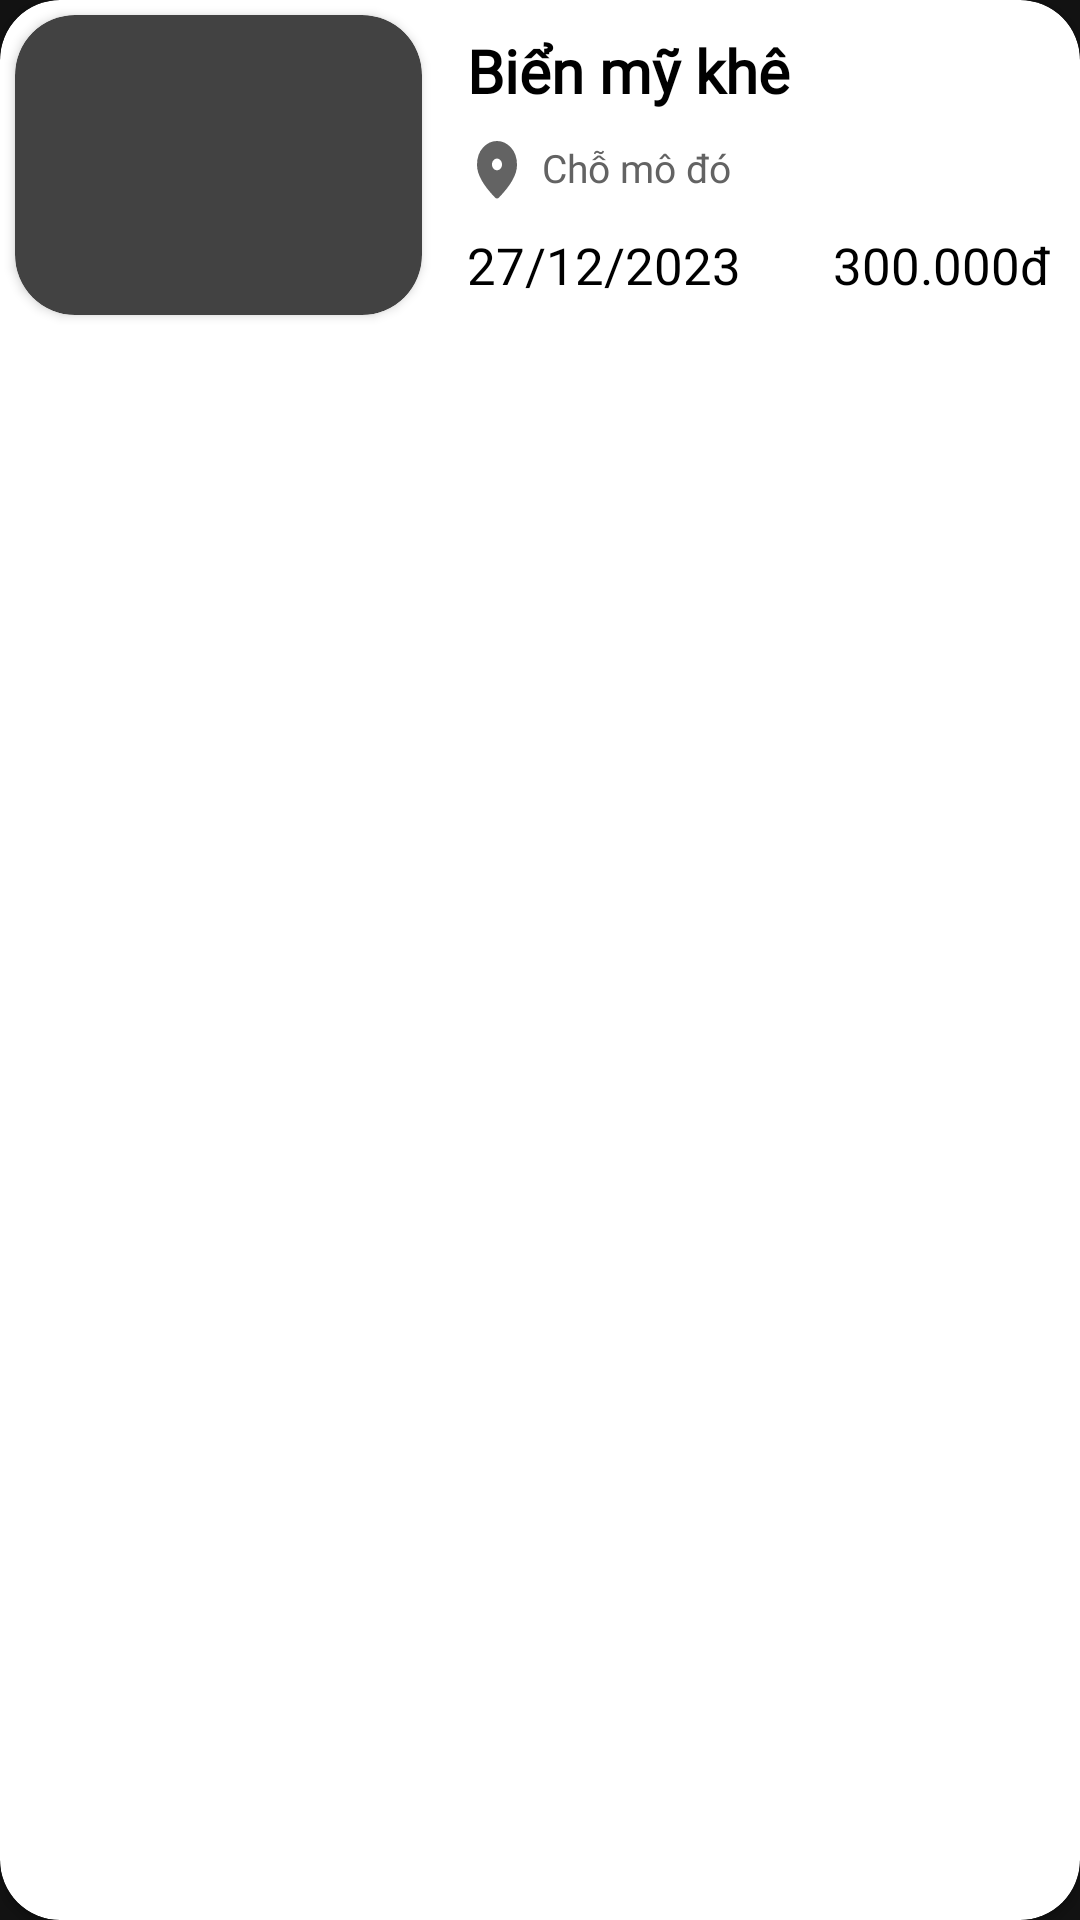

Icons on this 1080 x 1920 Android screen, each with the point to tap as (x,y):
location: (497,170)
